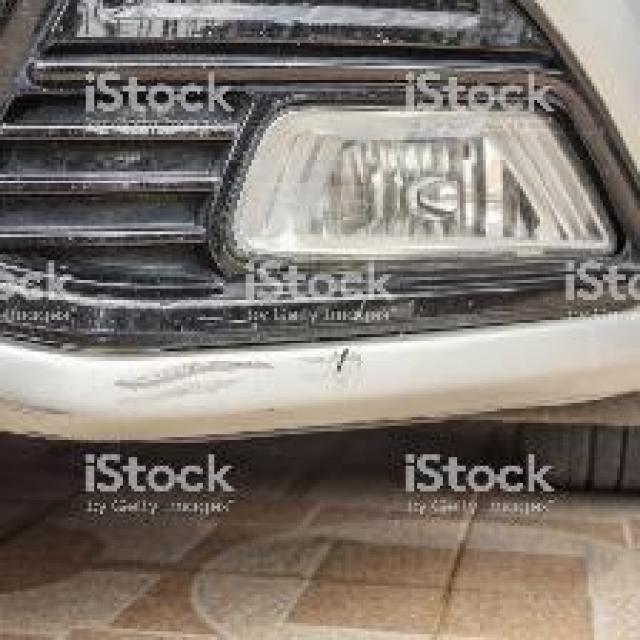damaged: (6, 348, 388, 426)
